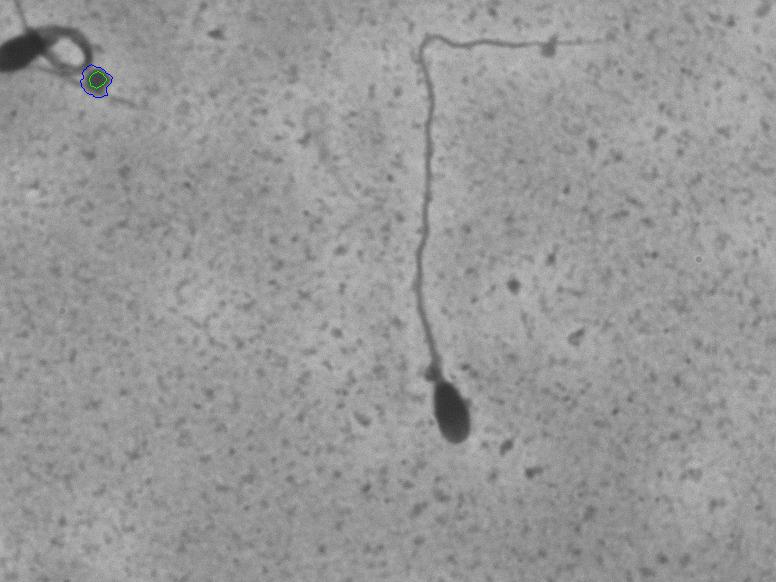Normal: (331, 3, 639, 477)
